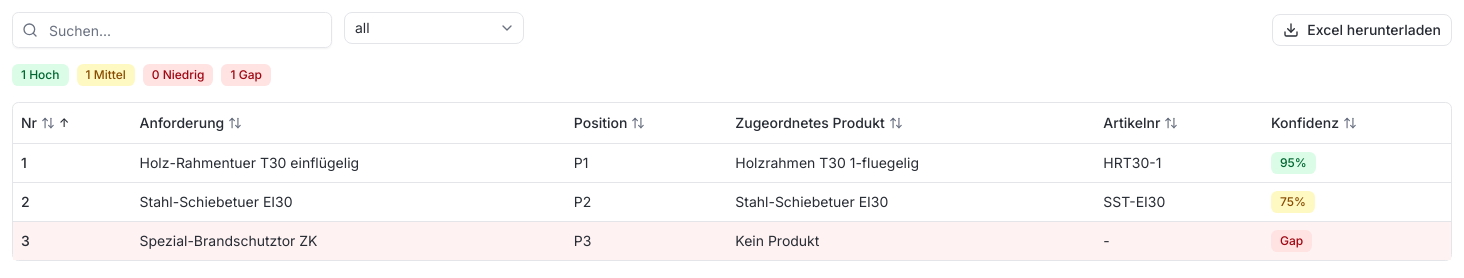
[ANLZ-05, RSLT-01, RSLT-04] Results table step › filters by text search on beschreibung
Type "Holz" into the field with test id "search-input" at point(172, 30), box [12,12,332,48]
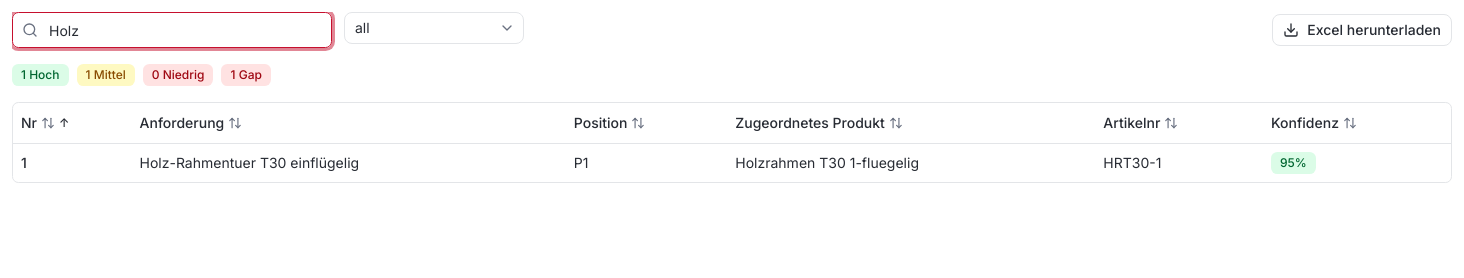
Expected: the row with test id "result-row-1" is shown, [13,143,1451,182]
Expected: the row with test id "result-row-2" is gone
Expected: the row with test id "result-row-3" is gone
